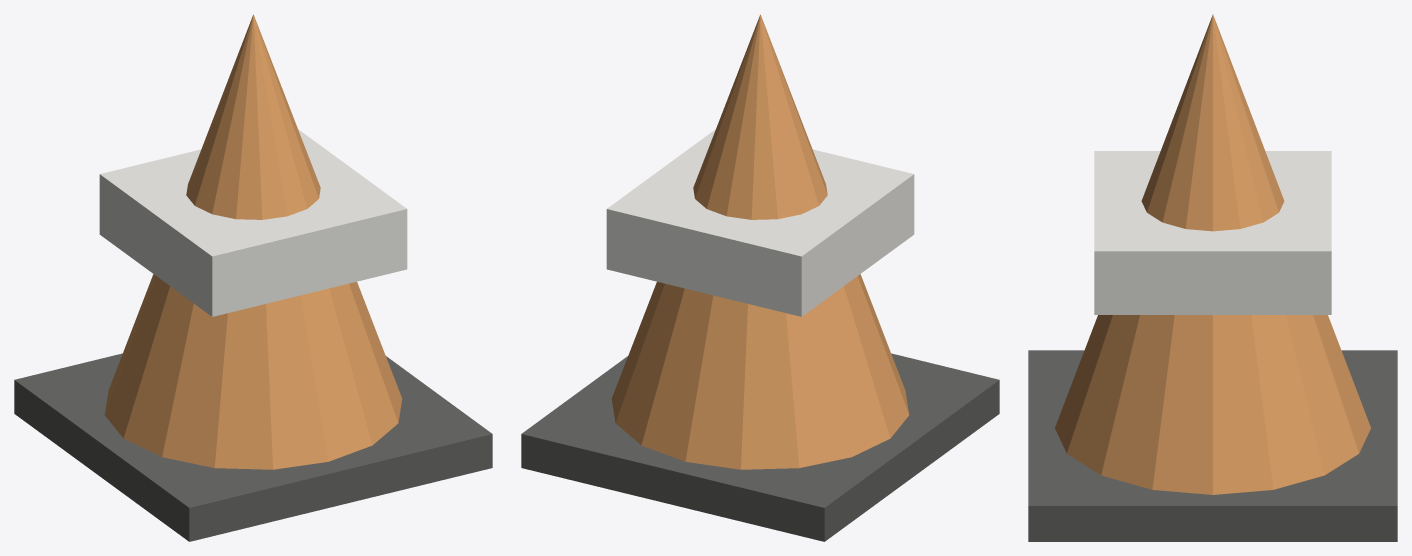
The model's file is traffic_cone_03.glb.
3 renders of one model, left to right at view 1: azimuth 30°, elevation 25°; view 2: azimuth 150°, elevation 25°; view 3: azimuth 270°, elevation 25°, orthographic. The views are drawn at different scales.
Parts seen in each view (by area): view 1: cone, base, stripe; view 2: cone, base, stripe; view 3: cone, base, stripe.
Part boxes in pixels (x1,y1,x2,y2): cone: (104,14,402,469); base: (14,353,492,541); stripe: (99,129,407,316); cone: (611,14,909,469); base: (521,353,999,541); stripe: (606,129,914,316); cone: (1055,14,1370,494); base: (1028,350,1397,541); stripe: (1094,151,1331,314).
Bounding box in the file's own units: 0.42 × 0.565 × 0.42.
